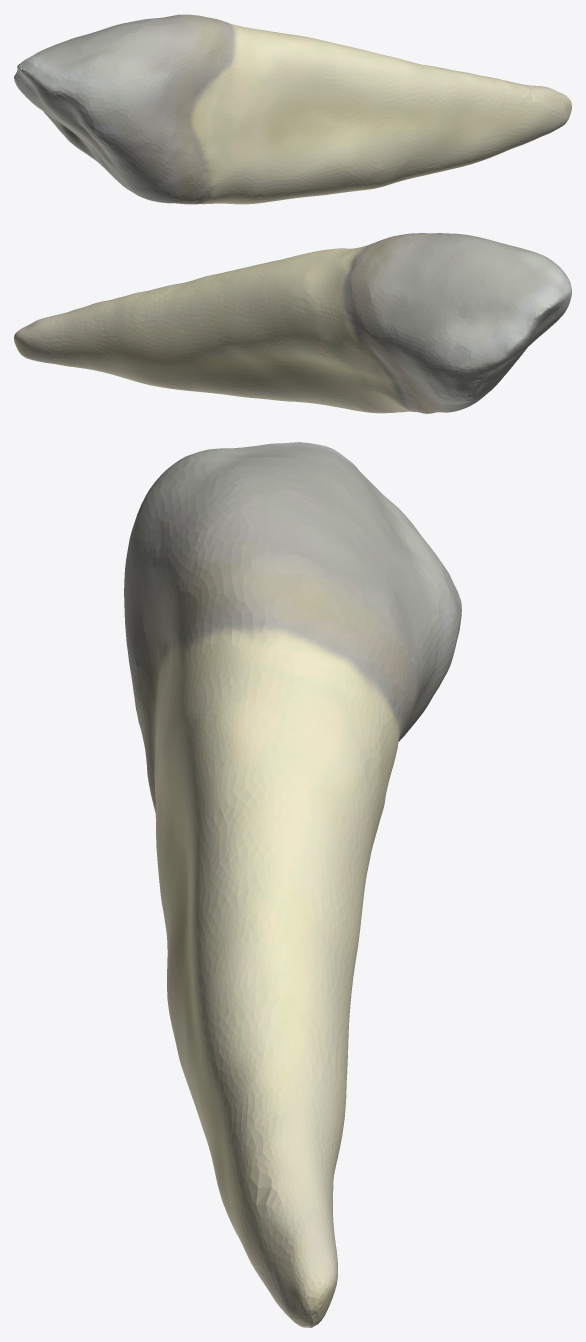
Rendered from 13 - quiz.glb.
3 views of the same model, one above another, from view 1: azimuth 30°, elevation 25°; view 2: azimuth 150°, elevation 25°; view 3: azimuth 270°, elevation 25° (orthographic). The views are drawn at different scales.
Visible parts, largest first — view 1: 3MFMeshParent_0; view 2: 3MFMeshParent_0; view 3: 3MFMeshParent_0.
Part boxes in pixels (<box>): 3MFMeshParent_0: <box>14,14,571,204</box>; 3MFMeshParent_0: <box>14,233,571,413</box>; 3MFMeshParent_0: <box>124,442,461,1327</box>.
Size of the model in its own units: 0.512 by 0.196 by 0.1391.
1 material, 1 textured.
